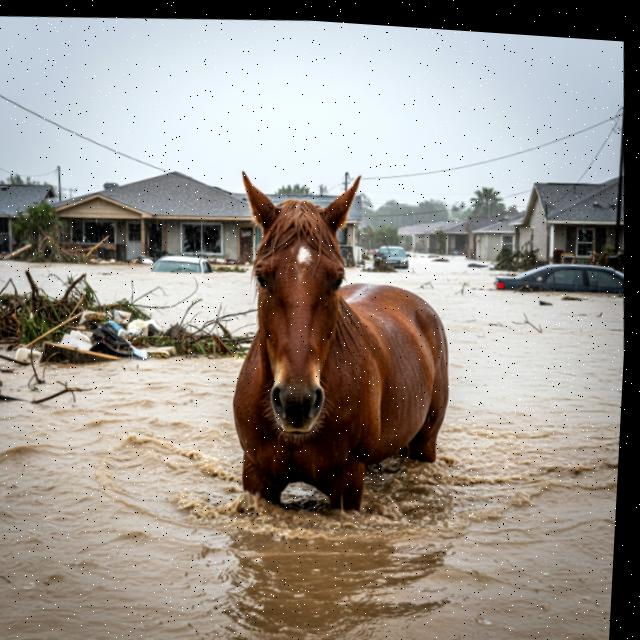horse: (177, 141, 489, 546)
